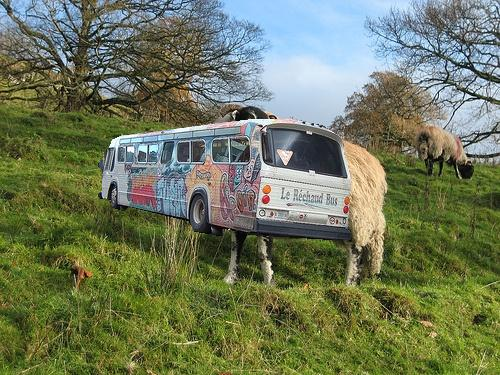tampered: (99, 120, 351, 240)
